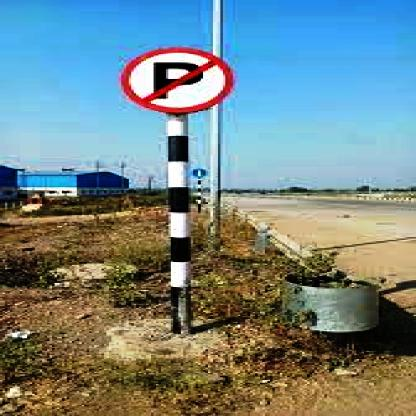No parking: (111, 43, 238, 114)
